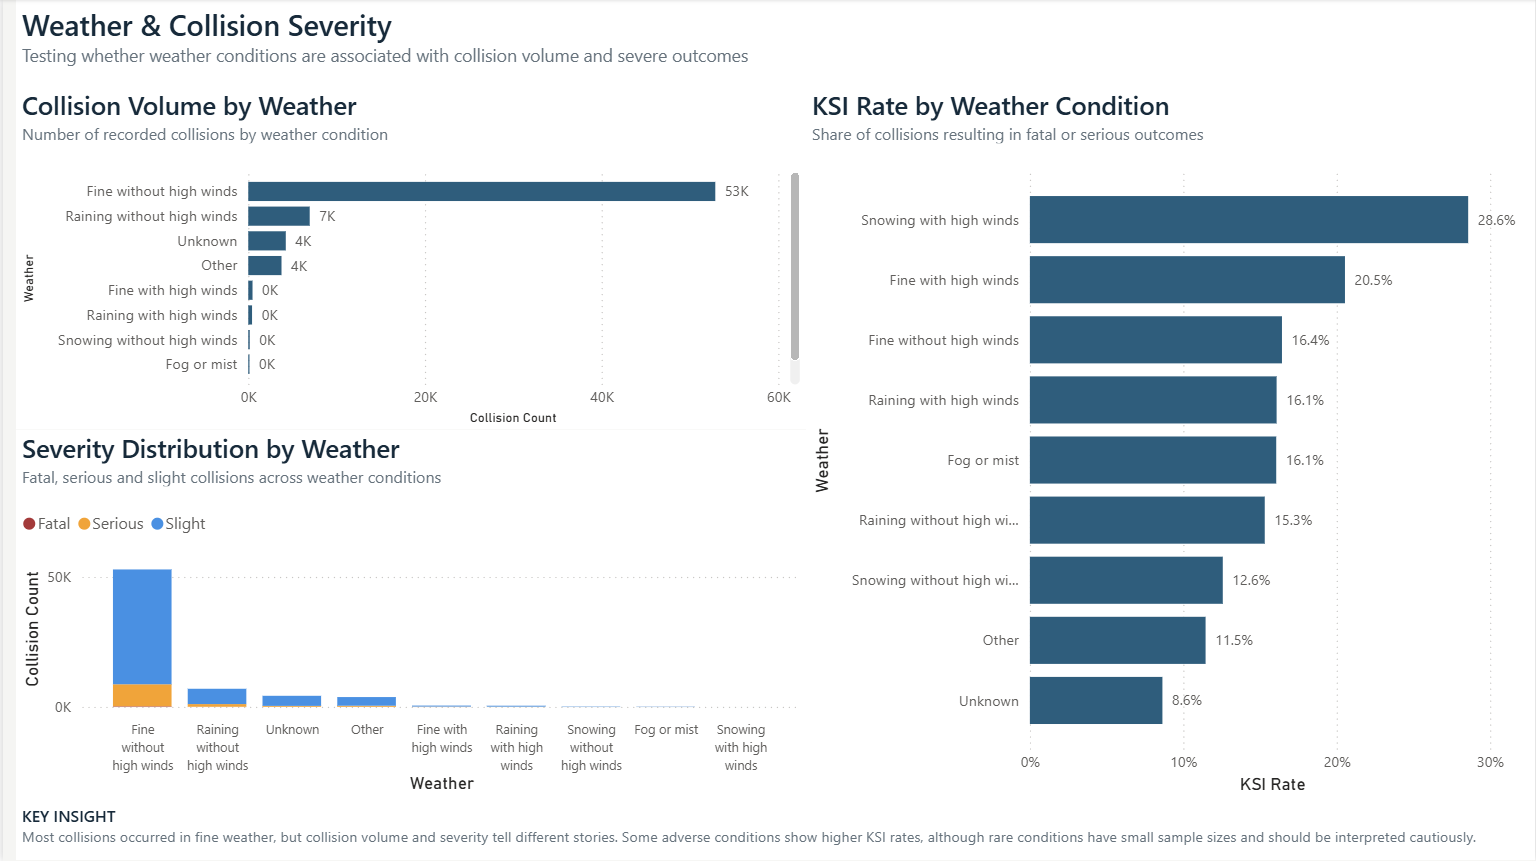

What the dashboard file says about the page in this screenshot:
{"tool":"powerbi","page":{"name":"Weather & Severity","canvas":[1280,720],"ordinal":1},"visuals":[{"type":"clusteredBarChart","title":"Collision Volume by Weather","fields":{"Category":["Data.Weather"],"Y":["KPI Measures.Collision Count"]},"box":[10.6,73.6,659.7,286.4],"z":0},{"type":"columnChart","title":"Severity Distribution by Weather","fields":{"Category":["Data.Weather"],"Y":["KPI Measures.Collision Count"],"Series":["Data.Severity"]},"box":[10.6,360,660.6,308.6],"z":1000},{"type":"clusteredBarChart","title":"KSI Rate by Weather Condition","fields":{"Category":["Data.Weather"],"Y":["KPI Measures.KSI Rate"]},"box":[670.3,73.6,610,595],"z":2000},{"type":"textbox","box":[10.6,0,1269.8,73.6],"z":2001},{"type":"textbox","box":[10.6,668.6,1269.8,51.4],"z":2002}]}

Visuals, with their boxes in screenshot pixels (x1, y1, x2, y2), scaled from the page's 1280x720 canvas onto the 1536x861 screenshot:
"Collision Volume by Weather" clusteredBarChart: {"left": 13, "top": 88, "right": 804, "bottom": 430}
"Severity Distribution by Weather" columnChart: {"left": 13, "top": 430, "right": 805, "bottom": 800}
"KSI Rate by Weather Condition" clusteredBarChart: {"left": 804, "top": 88, "right": 1535, "bottom": 800}
textbox: {"left": 13, "top": 0, "right": 1535, "bottom": 88}
textbox: {"left": 13, "top": 800, "right": 1535, "bottom": 860}
